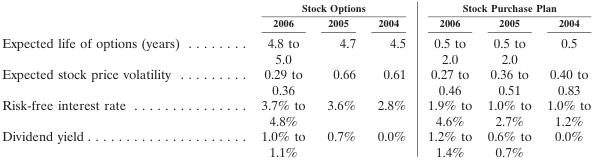table: (1, 1, 590, 158)
table column: (1, 1, 219, 158), (219, 1, 315, 158), (416, 1, 478, 158), (478, 1, 538, 158), (538, 1, 590, 158), (365, 1, 416, 158), (315, 1, 365, 158)
table column header: (1, 1, 590, 31)
table row: (1, 31, 590, 65), (1, 65, 590, 96), (1, 96, 590, 127), (1, 127, 590, 158), (1, 15, 590, 31), (1, 1, 590, 15)
table spanning cell: (219, 1, 416, 15), (416, 1, 590, 15)
